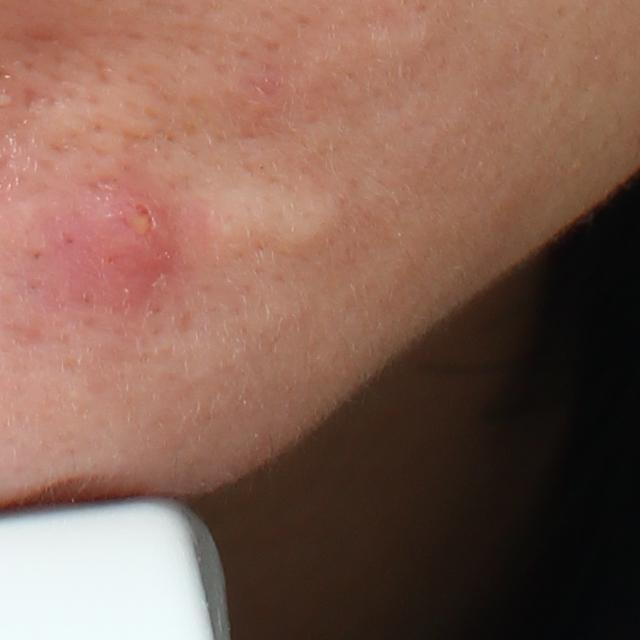hypertrophic_scar: (203, 171, 365, 265), (341, 14, 435, 70)
pustule: (64, 186, 198, 302)
